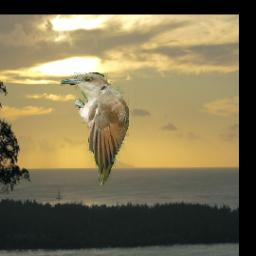Cuckoo: (61, 72, 129, 186)
